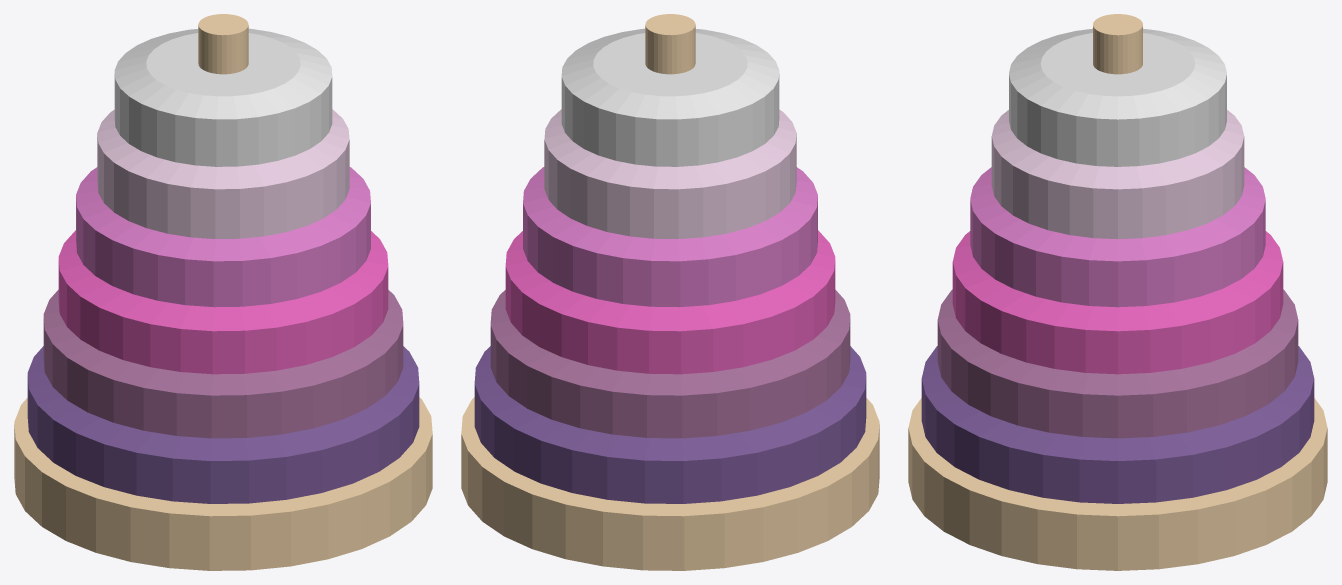
The model's file is Kinderspielzeug Stapel.fbx.
3 renders of one model, left to right at view 1: azimuth 30°, elevation 25°; view 2: azimuth 150°, elevation 25°; view 3: azimuth 270°, elevation 25°, orthographic.
Visible parts, largest first — view 1: Cylinder, Cylinder.001, Cylinder.002, Cylinder.006, Cylinder.003, Cylinder.004, Cylinder.005, Cylinder.007; view 2: Cylinder, Cylinder.001, Cylinder.002, Cylinder.006, Cylinder.003, Cylinder.004, Cylinder.005, Cylinder.007; view 3: Cylinder, Cylinder.001, Cylinder.002, Cylinder.006, Cylinder.003, Cylinder.004, Cylinder.005, Cylinder.007.
Boxes of the visible parts, x1=… form: Cylinder: x1=14, y1=397, x2=432, y2=570; Cylinder.001: x1=27, y1=346, x2=419, y2=503; Cylinder.002: x1=43, y1=289, x2=403, y2=438; Cylinder.006: x1=114, y1=28, x2=332, y2=166; Cylinder.003: x1=58, y1=230, x2=388, y2=374; Cylinder.004: x1=76, y1=167, x2=370, y2=307; Cylinder.005: x1=97, y1=109, x2=349, y2=238; Cylinder.007: x1=198, y1=14, x2=248, y2=74; Cylinder: x1=461, y1=397, x2=879, y2=570; Cylinder.001: x1=474, y1=346, x2=866, y2=503; Cylinder.002: x1=490, y1=289, x2=850, y2=438; Cylinder.006: x1=561, y1=28, x2=779, y2=166; Cylinder.003: x1=505, y1=230, x2=835, y2=374; Cylinder.004: x1=523, y1=167, x2=817, y2=307; Cylinder.005: x1=544, y1=109, x2=796, y2=238; Cylinder.007: x1=645, y1=14, x2=695, y2=74; Cylinder: x1=908, y1=398, x2=1327, y2=570; Cylinder.001: x1=921, y1=346, x2=1314, y2=503; Cylinder.002: x1=937, y1=289, x2=1298, y2=438; Cylinder.006: x1=1009, y1=28, x2=1226, y2=166; Cylinder.003: x1=952, y1=231, x2=1283, y2=374; Cylinder.004: x1=970, y1=167, x2=1265, y2=307; Cylinder.005: x1=991, y1=110, x2=1244, y2=239; Cylinder.007: x1=1093, y1=14, x2=1142, y2=74.
Bounding box in the file's own units: 45.02 × 58.2 × 45.02.
